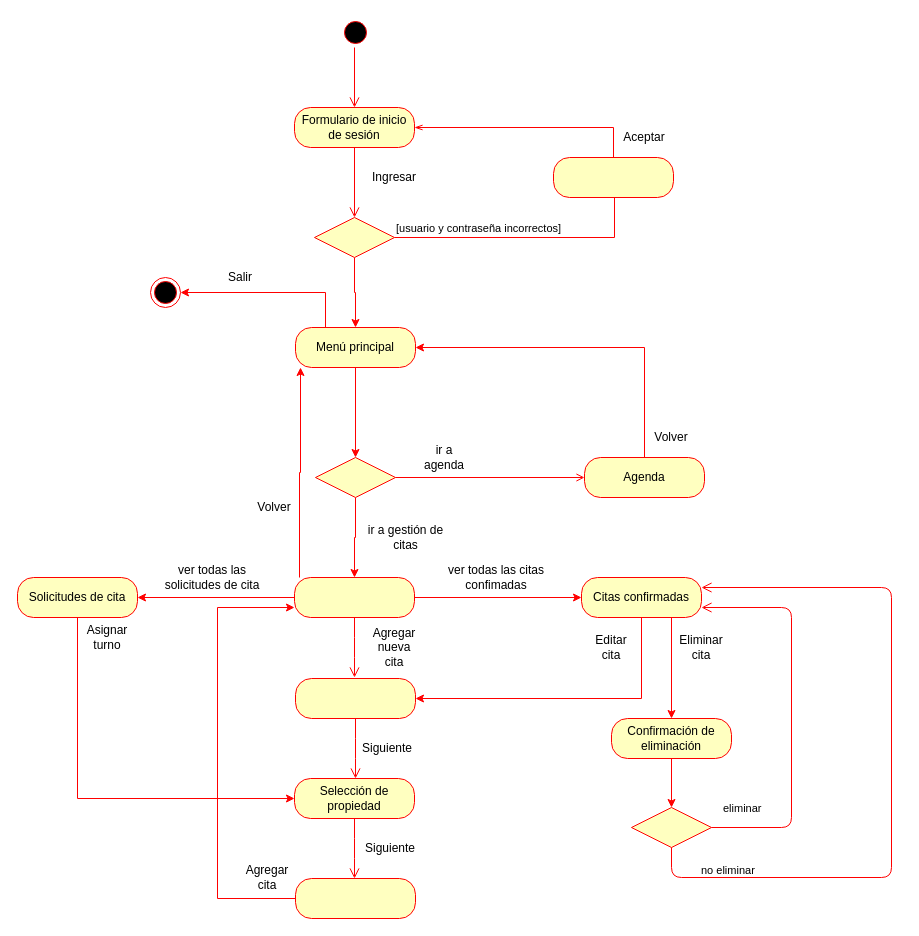
This 919x936 diagram has some shape labels left out. Here are the shapes that lost their labels. From the top down, the centre of each, then its label:
At [613,177]: "Error, usuario o contraseña invalidos".
At [354,597]: "Gestión de citas".
At [355,698]: "Formulario de datos del cliente".
At [355,898]: "Selección de horario".
